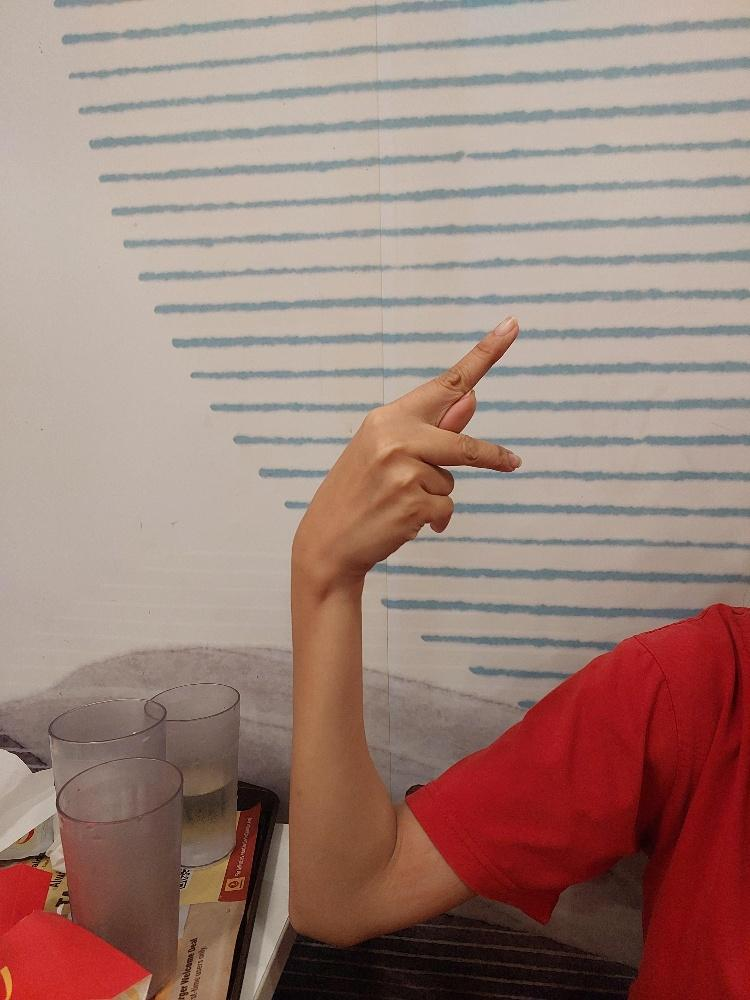k: (290, 311, 525, 576)
